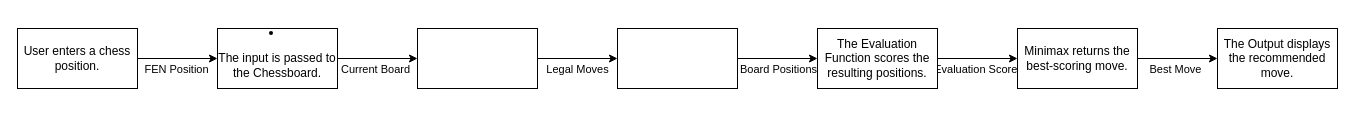
The diagram is 1355 pixels wide and 116 high, and some of its shapes have lost their labels. Each missing label, with the centre of its shape:
Minimax explores possible move sequences: [677,58]
The Move Generator finds all legal moves.: [477,58]
